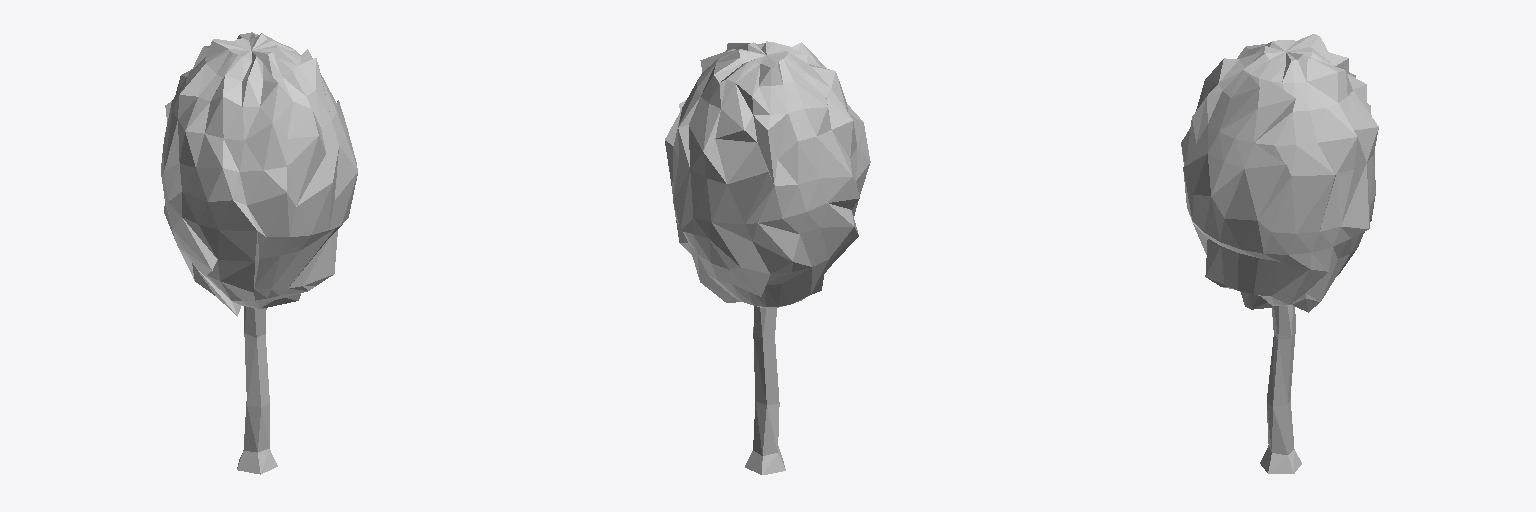
The model's file is Tree3.obj.
3 views of the same model, side by side, from view 1: azimuth 30°, elevation 25°; view 2: azimuth 150°, elevation 25°; view 3: azimuth 270°, elevation 25° (orthographic).
Visible parts, largest first — view 1: Nullo_Alberi_Albero_3_Sfera3, Nullo_Alberi_Albero_3_Cilindro; view 2: Nullo_Alberi_Albero_3_Sfera3, Nullo_Alberi_Albero_3_Cilindro; view 3: Nullo_Alberi_Albero_3_Sfera3, Nullo_Alberi_Albero_3_Cilindro.
Part boxes in pixels (x1,y1,x2,y2): Nullo_Alberi_Albero_3_Sfera3: (161,32,357,316); Nullo_Alberi_Albero_3_Cilindro: (237,306,277,474); Nullo_Alberi_Albero_3_Sfera3: (665,41,870,308); Nullo_Alberi_Albero_3_Cilindro: (745,306,785,474); Nullo_Alberi_Albero_3_Sfera3: (1181,34,1378,312); Nullo_Alberi_Albero_3_Cilindro: (1260,305,1301,473).
Bounding box in the file's own units: 339 × 759 × 324.